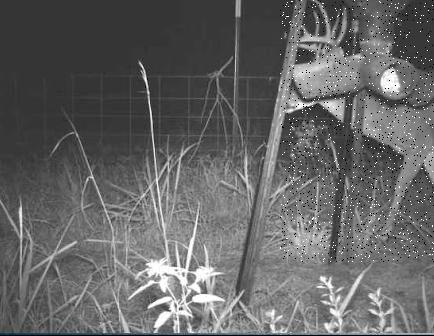Deer: (280, 0, 434, 262)
